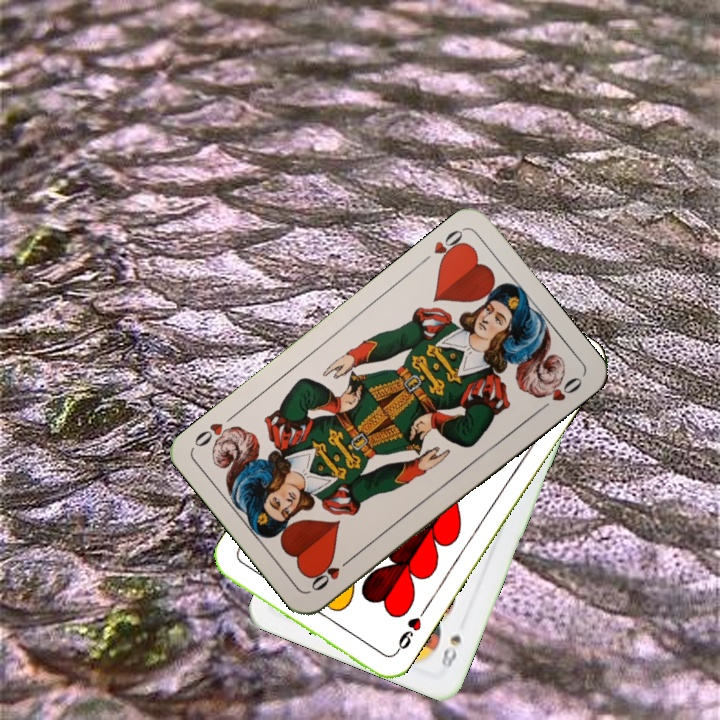H9: (389, 606, 428, 658)
HO: (306, 552, 357, 594), (429, 224, 470, 268)
S8: (437, 631, 464, 672)
